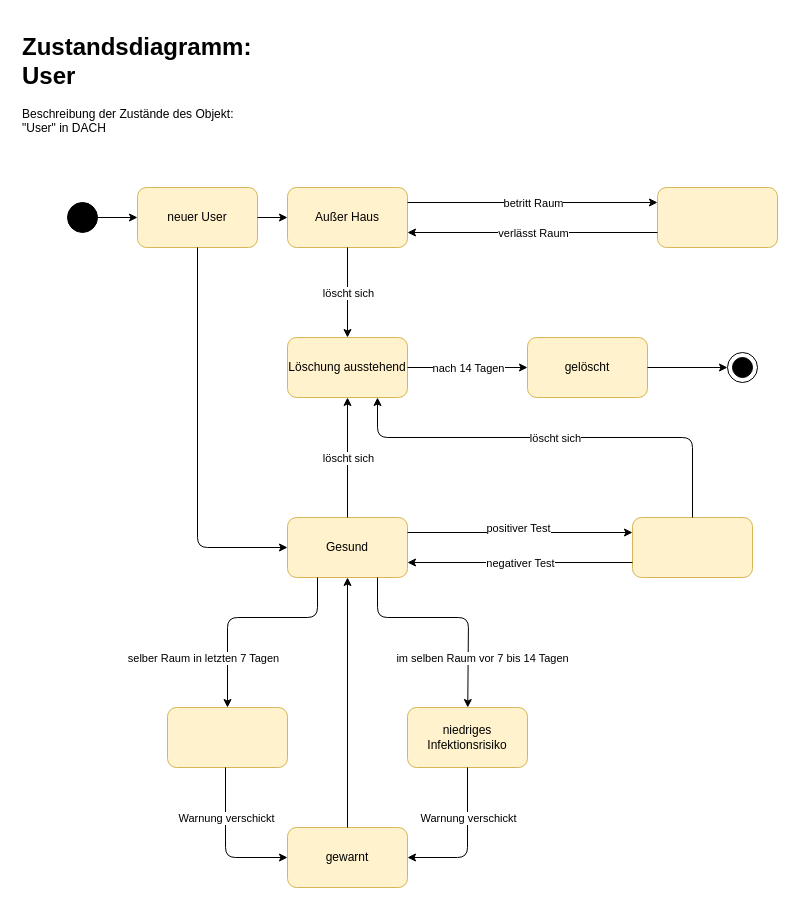
This 795x905 diagram has some shape labels left out. The centre of each missing label's shape, as x and y in pixels:
"COVID positiv" goes at (x=692, y=547).
"hohes Infektionsrisiko" goes at (x=227, y=737).
"In Raum" goes at (x=717, y=217).
